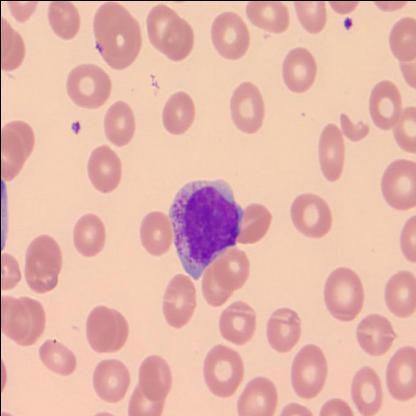Promyelocyte: (168, 176, 244, 277)
